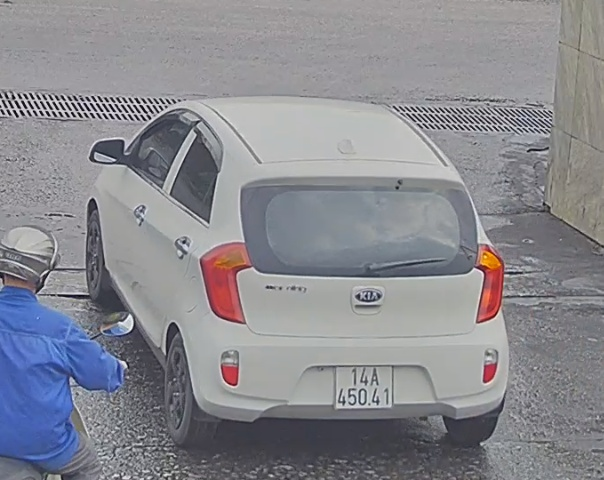vehicle plate: (330, 360, 395, 412)
